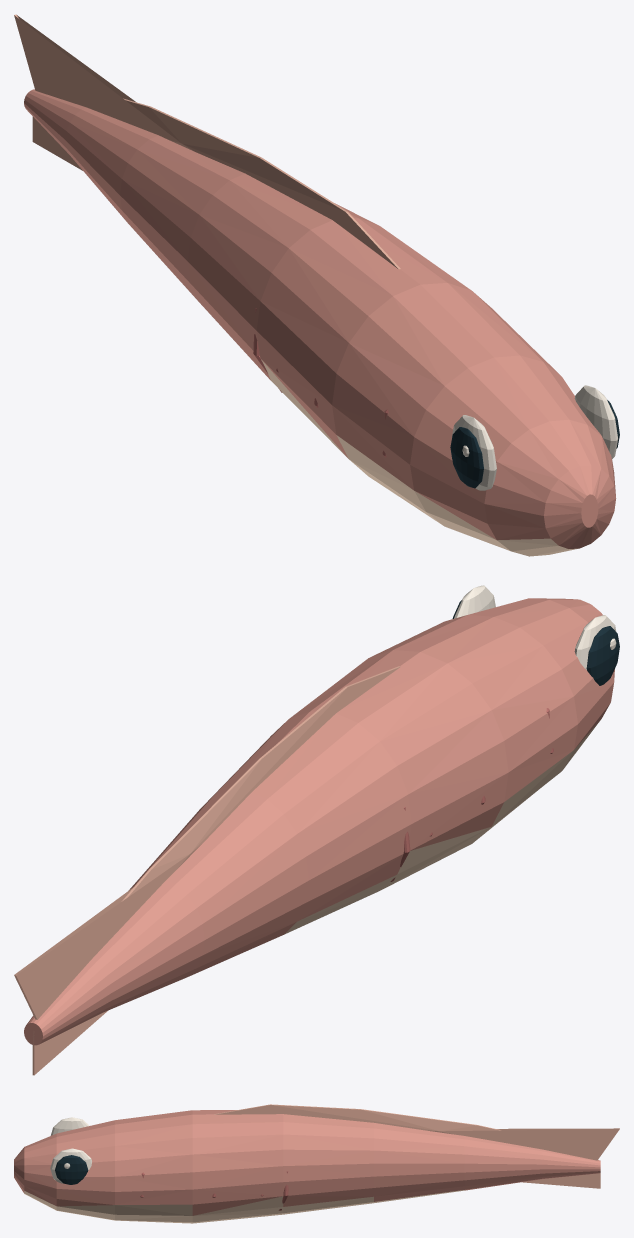
File: metaspriggina.glb
3 views of the same model, one above another, from view 1: azimuth 30°, elevation 25°; view 2: azimuth 150°, elevation 25°; view 3: azimuth 270°, elevation 25° (orthographic). The views are drawn at different scales.
Parts seen in each view (by area): view 1: soft-body, continuous-dorsal-tail-fold, right-eye-rim, left-eye, left-eye-rim, ventral-tail-fold; view 2: soft-body, continuous-dorsal-tail-fold, left-eye, ventral-tail-fold, right-eye-rim, left-eye-rim; view 3: soft-body, continuous-dorsal-tail-fold, right-eye, ventral-tail-fold, right-eye-rim, left-eye-rim.
Boxes of the visible parts, box(x1,y1,x2,y2) form: soft-body: box(24, 89, 616, 556); continuous-dorsal-tail-fold: box(14, 14, 400, 269); right-eye-rim: box(574, 385, 617, 458); left-eye: box(450, 427, 483, 488); left-eye-rim: box(452, 415, 496, 490); ventral-tail-fold: box(32, 116, 82, 170); soft-body: box(24, 598, 614, 1045); continuous-dorsal-tail-fold: box(14, 666, 400, 1019); left-eye: box(586, 626, 619, 685); ventral-tail-fold: box(32, 1010, 107, 1075); right-eye-rim: box(454, 585, 495, 618); left-eye-rim: box(574, 615, 616, 669); soft-body: box(14, 1110, 600, 1223); continuous-dorsal-tail-fold: box(214, 1104, 619, 1160); right-eye: box(55, 1155, 88, 1184); ventral-tail-fold: box(522, 1173, 600, 1188); right-eye-rim: box(50, 1148, 91, 1183); left-eye-rim: box(50, 1117, 89, 1135).
Bounding box in the file's own units: 0.0116 × 0.0137 × 0.0655.
